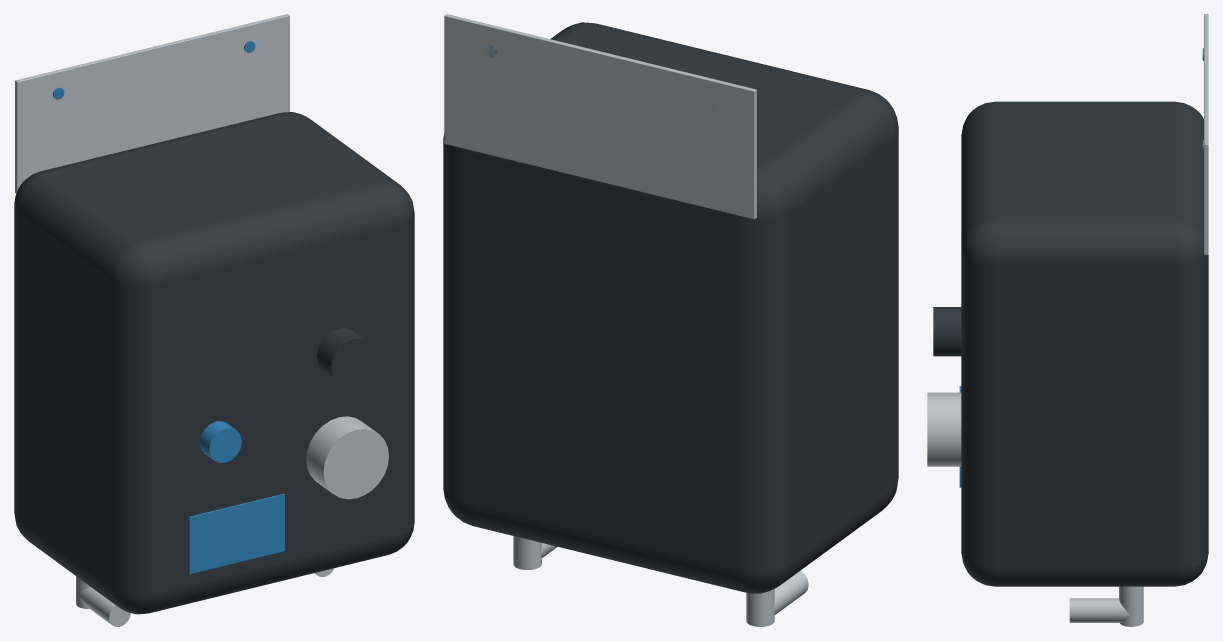
The model's file is mount.obj.
3 views of the same model, side by side, from view 1: azimuth 30°, elevation 25°; view 2: azimuth 150°, elevation 25°; view 3: azimuth 270°, elevation 25° (orthographic). The views are drawn at different scales.
Parts seen in each view (by area): view 1: enclosure, hanging_bracket, label, filter_regulator, regulator_knob, vacuum_switch, air_out_elbow; view 2: enclosure, hanging_bracket, air_out_fitting, air_out_elbow, air_in_fitting; view 3: enclosure, filter_regulator, regulator_knob, air_in_elbow, hanging_bracket, air_in_fitting.
Boxes of the visible parts, bbox=[...] form: enclosure: bbox=[14, 112, 414, 614]; hanging_bracket: bbox=[15, 14, 289, 193]; label: bbox=[189, 493, 284, 574]; filter_regulator: bbox=[306, 416, 388, 499]; regulator_knob: bbox=[317, 328, 374, 385]; vacuum_switch: bbox=[199, 421, 241, 462]; air_out_elbow: bbox=[77, 587, 130, 626]; enclosure: bbox=[443, 22, 898, 593]; hanging_bracket: bbox=[444, 14, 756, 219]; air_out_fitting: bbox=[746, 589, 774, 626]; air_out_elbow: bbox=[773, 570, 808, 614]; air_in_fitting: bbox=[513, 536, 541, 569]; enclosure: bbox=[961, 101, 1208, 586]; filter_regulator: bbox=[927, 392, 961, 466]; regulator_knob: bbox=[933, 307, 961, 356]; air_in_elbow: bbox=[1069, 598, 1130, 622]; hanging_bracket: bbox=[1204, 14, 1208, 254]; air_in_fitting: bbox=[1119, 586, 1143, 626].
Bounding box in the file's own units: 0.22 × 0.352 × 0.182.
